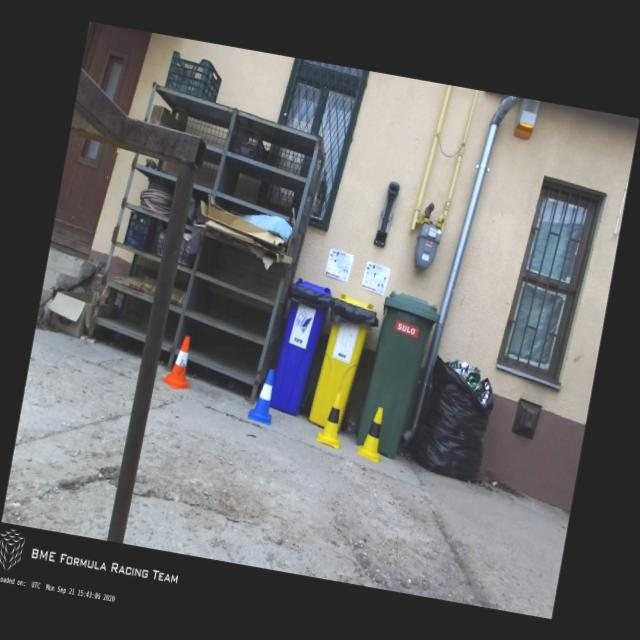blue_cone: (246, 366, 280, 425)
orange_cone: (160, 333, 198, 390)
yellow_cone: (314, 389, 348, 448), (354, 404, 388, 462)
